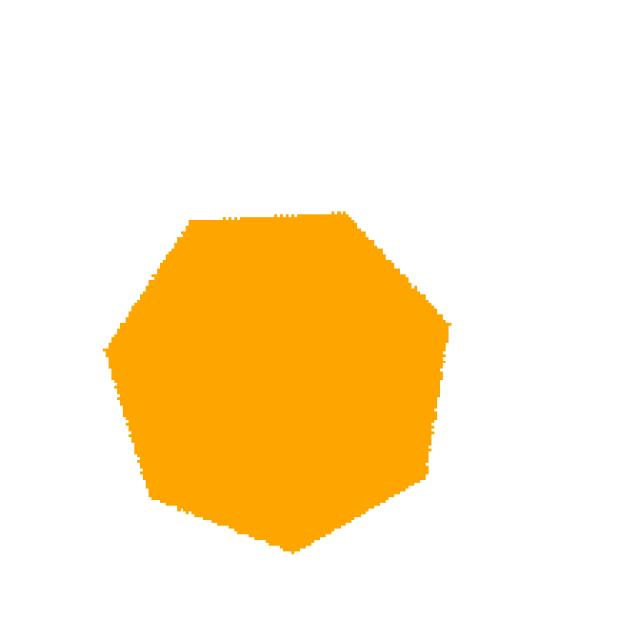Heptagon: (87, 154, 527, 587)
